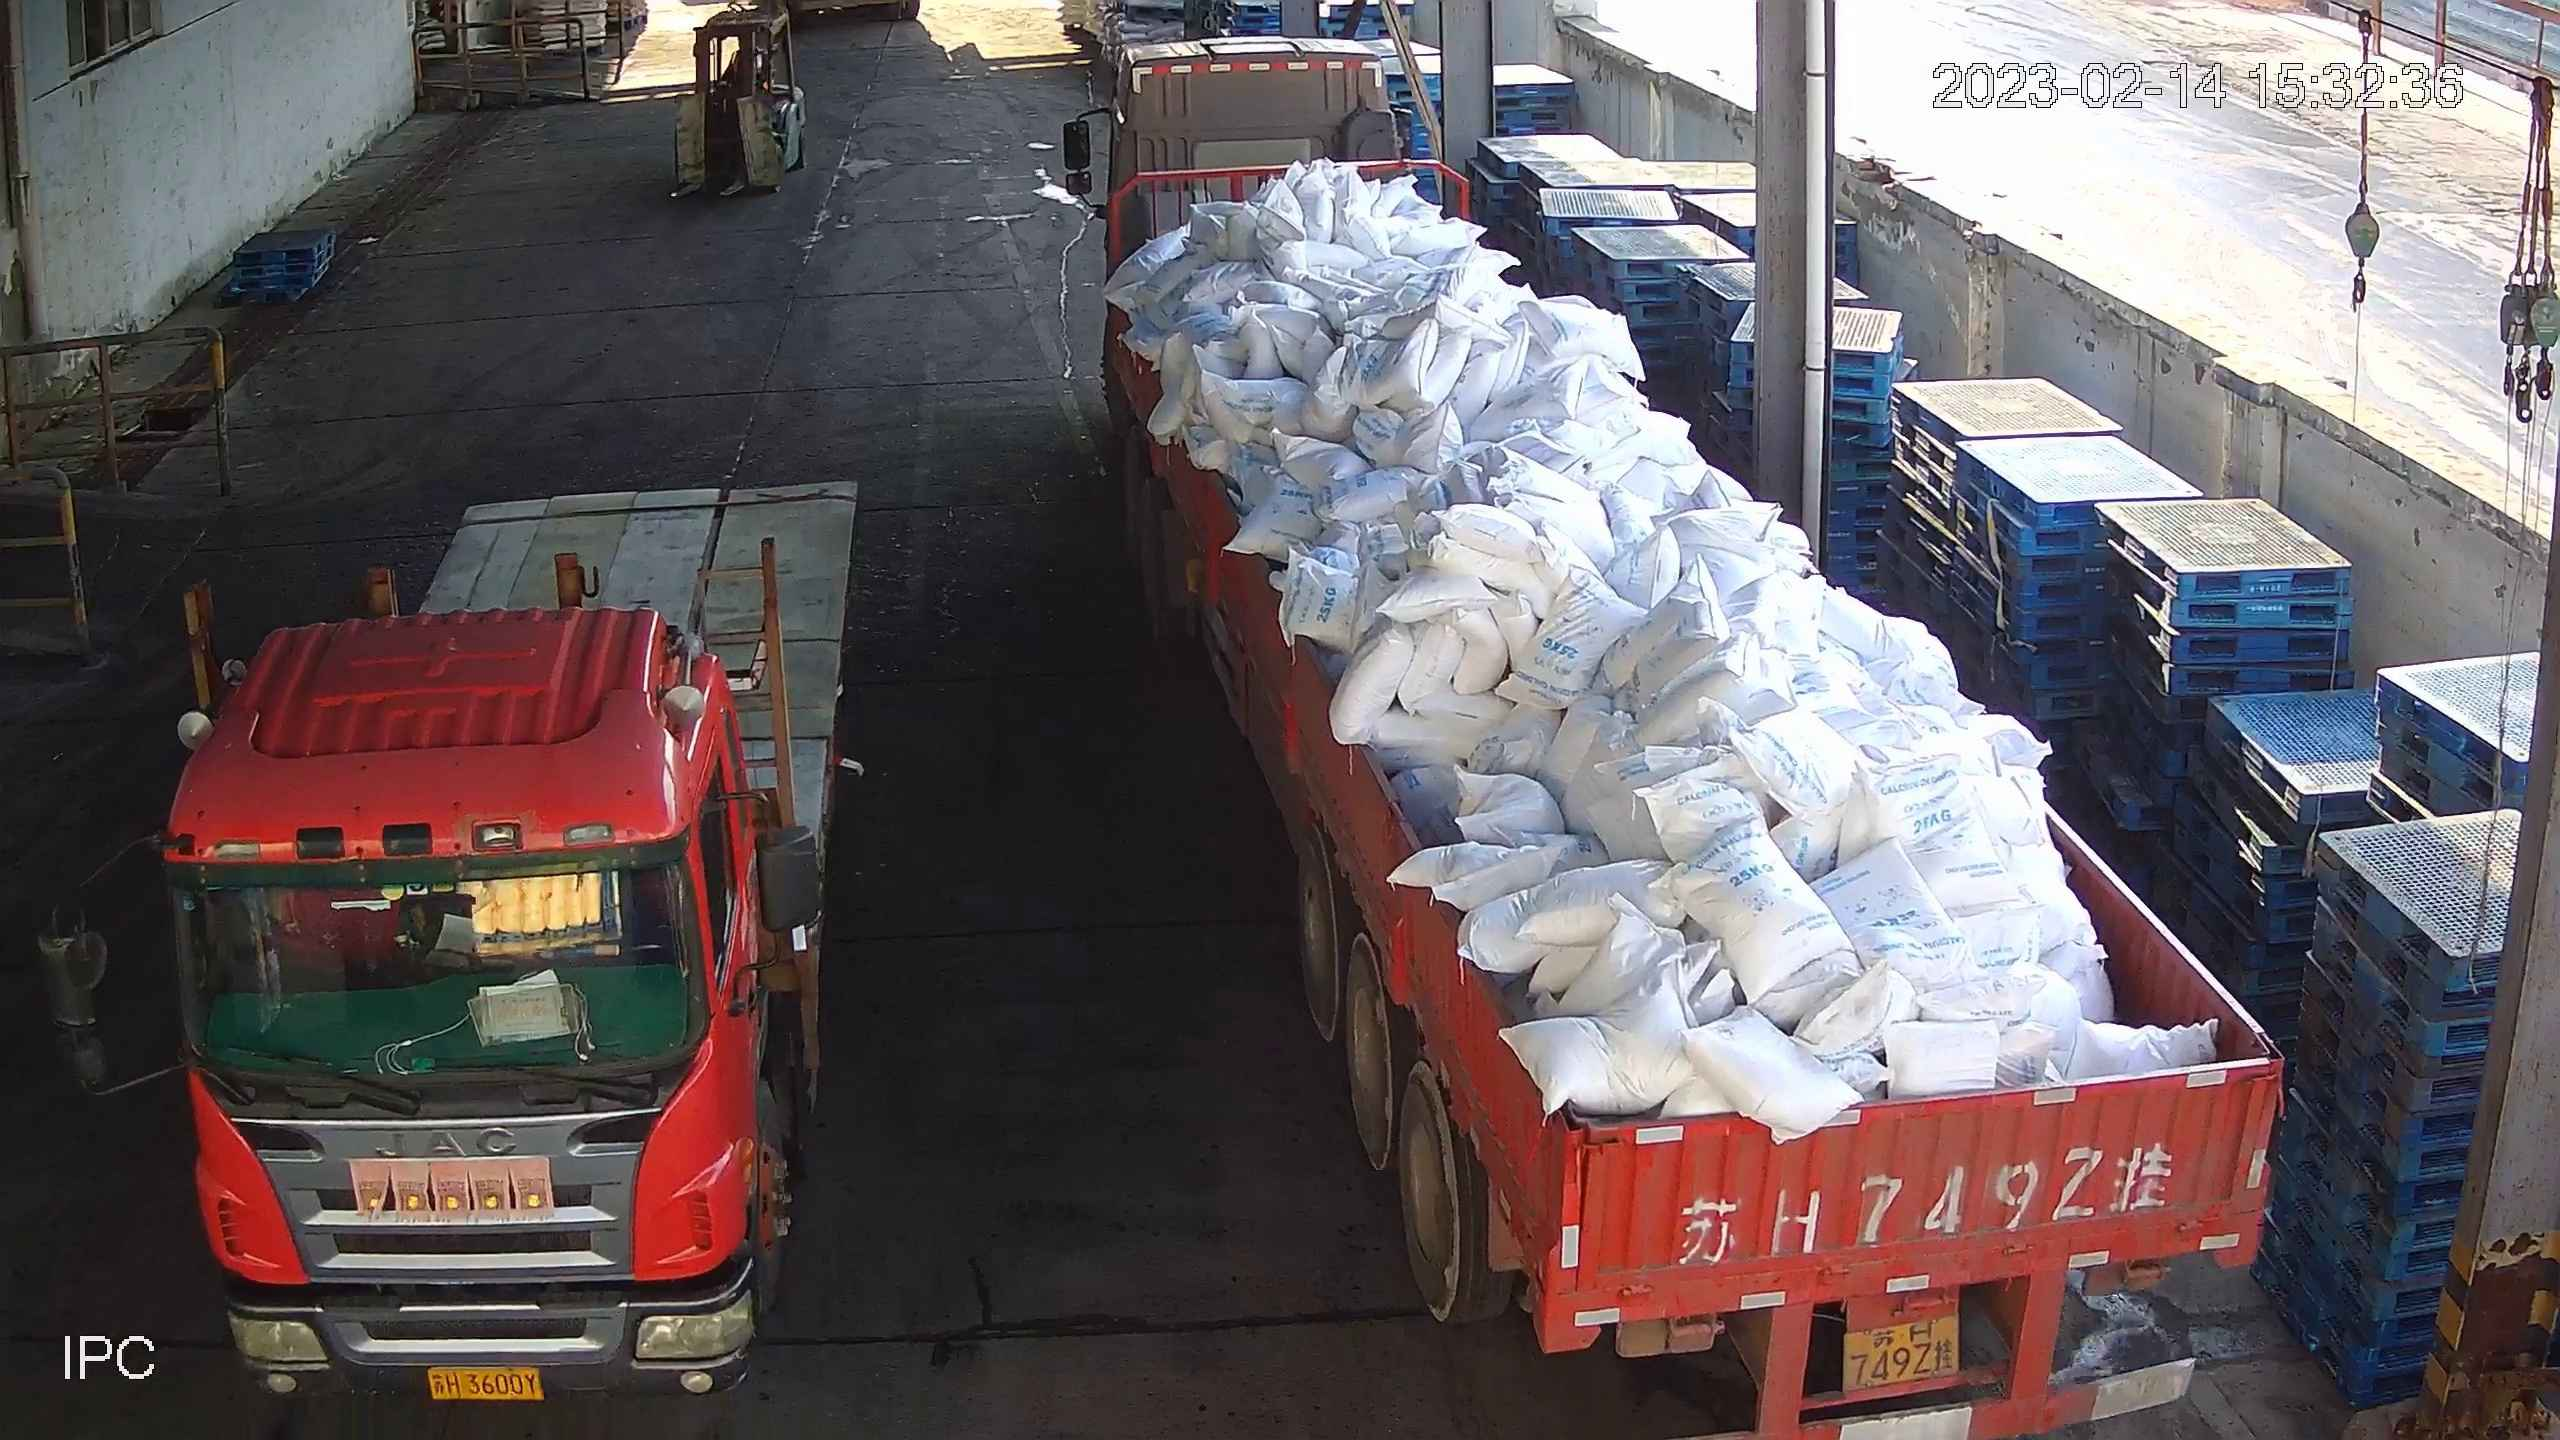truck: (1062, 26, 2286, 1440), (155, 410, 872, 1407)
